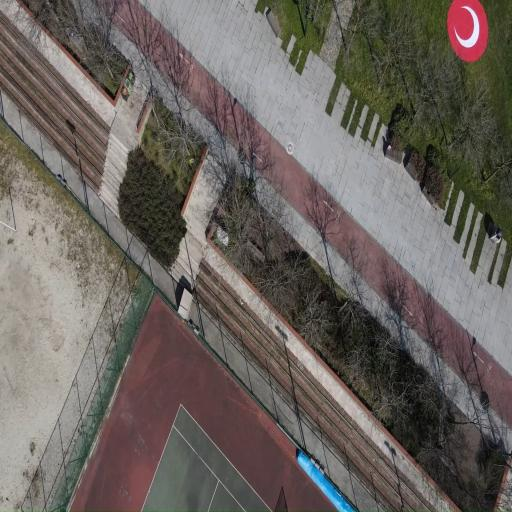UAP: (447, 0, 488, 62)
